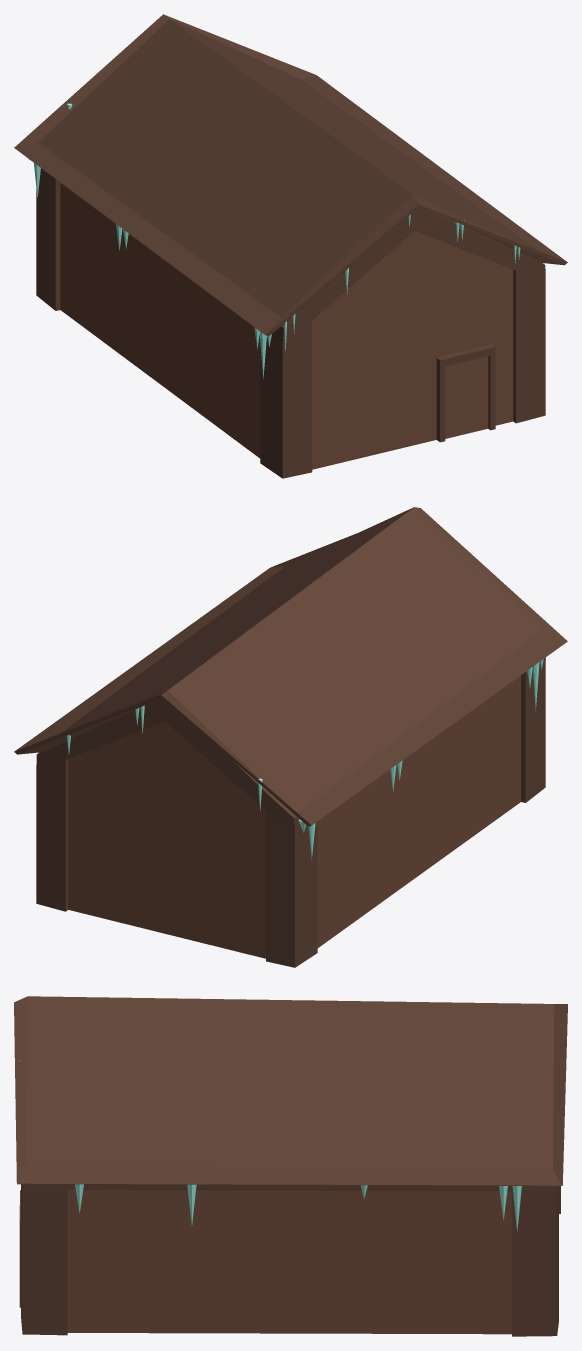
The model's file is BigHouseSnow.fbx.
The picture shows the model from 3 angles, top to bottom: view 1: azimuth 30°, elevation 25°; view 2: azimuth 150°, elevation 25°; view 3: azimuth 270°, elevation 25°; orthographic projection. The views are drawn at different scales.
Parts seen in each view (by area): view 1: BigHouseSnow; view 2: BigHouseSnow; view 3: BigHouseSnow.
Boxes of the visible parts, bbox=[...] form: BigHouseSnow: bbox=[14, 14, 567, 478]; BigHouseSnow: bbox=[14, 507, 567, 967]; BigHouseSnow: bbox=[14, 996, 567, 1336].
Bounding box in the file's own units: 10.75 × 15.78 × 8.48.
